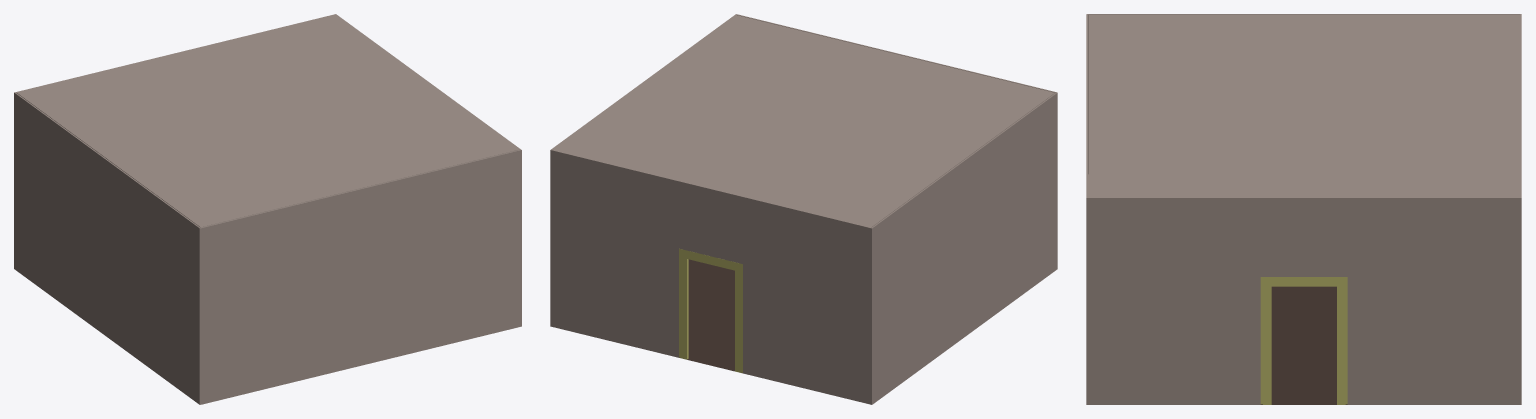
Rendered from Room44_UndergroundLake.fbx.
3 renders of one model, left to right at view 1: azimuth 30°, elevation 25°; view 2: azimuth 150°, elevation 25°; view 3: azimuth 270°, elevation 25°, orthographic. The views are drawn at different scales.
Visible parts, largest first — view 1: Roof, WallPosZ, WallPosX; view 2: Roof, WallSlicedNegZ, WallPosX, Floor, DoorFrameNegZ, WallPosZ, WallSlicedNegX; view 3: WallSlicedNegX, Roof, Floor, DoorFrameNegX, WallSlicedNegZ, WallPosZ, WallPosX.
Boxes of the visible parts, bbox=[...] form: Roof: bbox=[17, 15, 519, 227]; WallPosZ: bbox=[200, 150, 521, 404]; WallPosX: bbox=[14, 92, 200, 404]; Roof: bbox=[552, 15, 1054, 227]; WallSlicedNegZ: bbox=[550, 150, 871, 404]; WallPosX: bbox=[870, 92, 1057, 404]; Floor: bbox=[679, 259, 742, 373]; DoorFrameNegZ: bbox=[679, 248, 742, 372]; WallPosZ: bbox=[736, 14, 1056, 92]; WallSlicedNegX: bbox=[550, 14, 736, 326]; WallSlicedNegX: bbox=[1086, 197, 1521, 404]; Roof: bbox=[1088, 15, 1519, 197]; Floor: bbox=[1260, 286, 1347, 404]; DoorFrameNegX: bbox=[1260, 277, 1347, 404]; WallSlicedNegZ: bbox=[1518, 14, 1521, 404]; WallPosZ: bbox=[1086, 14, 1088, 404]; WallPosX: bbox=[1087, 14, 1521, 174].
Bounding box in the file's own units: 801 × 420 × 801.
